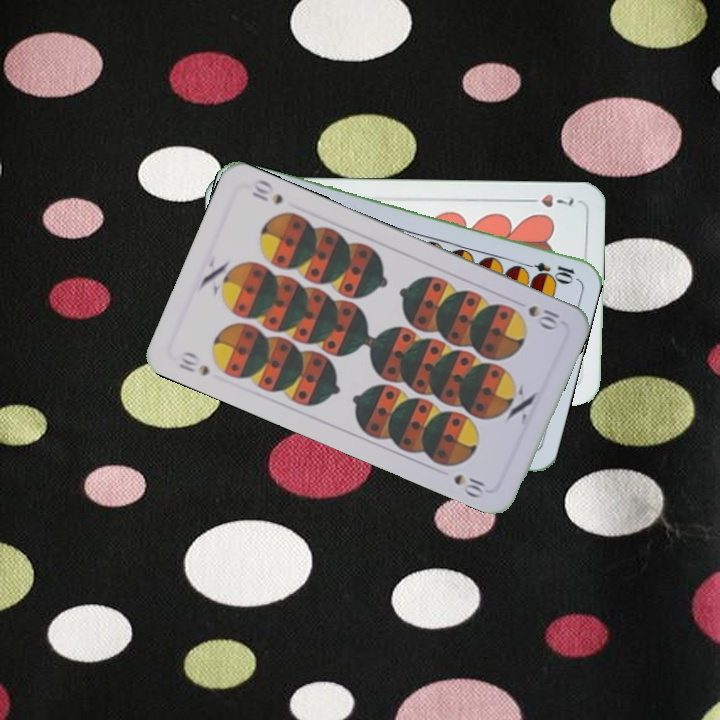E10: (518, 258, 577, 284)
H7: (520, 190, 576, 210)
S10: (174, 347, 212, 379), (524, 301, 562, 332)
